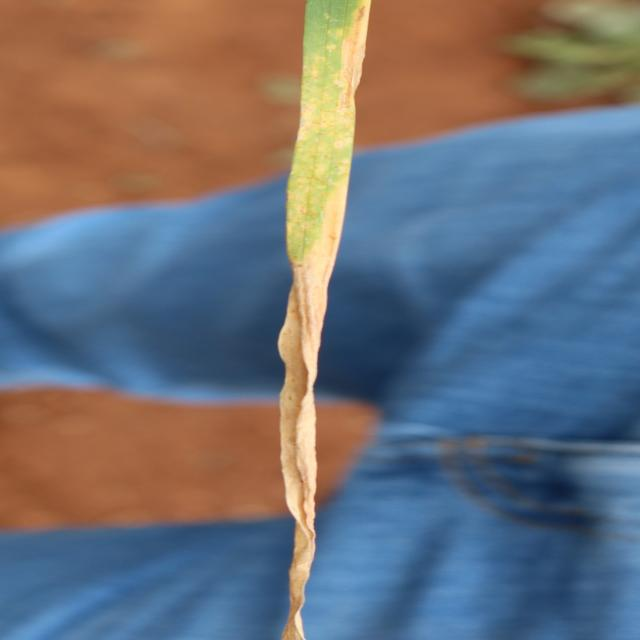Septoria: (274, 1, 372, 638)
